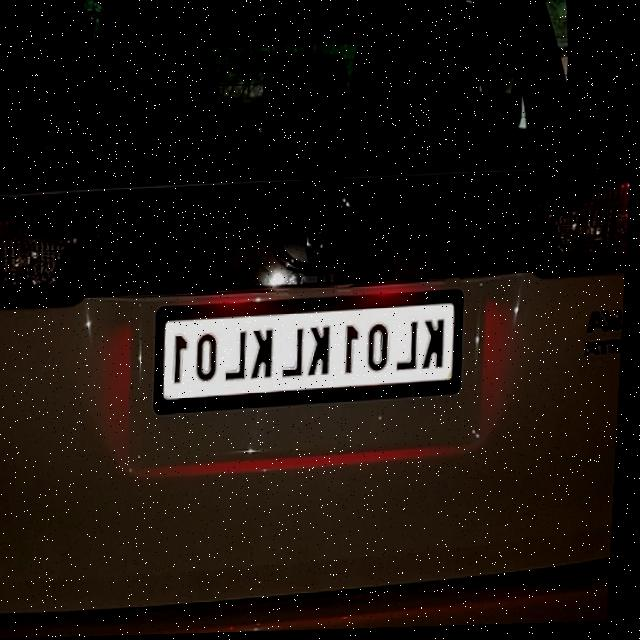plate: (156, 289, 471, 410)
